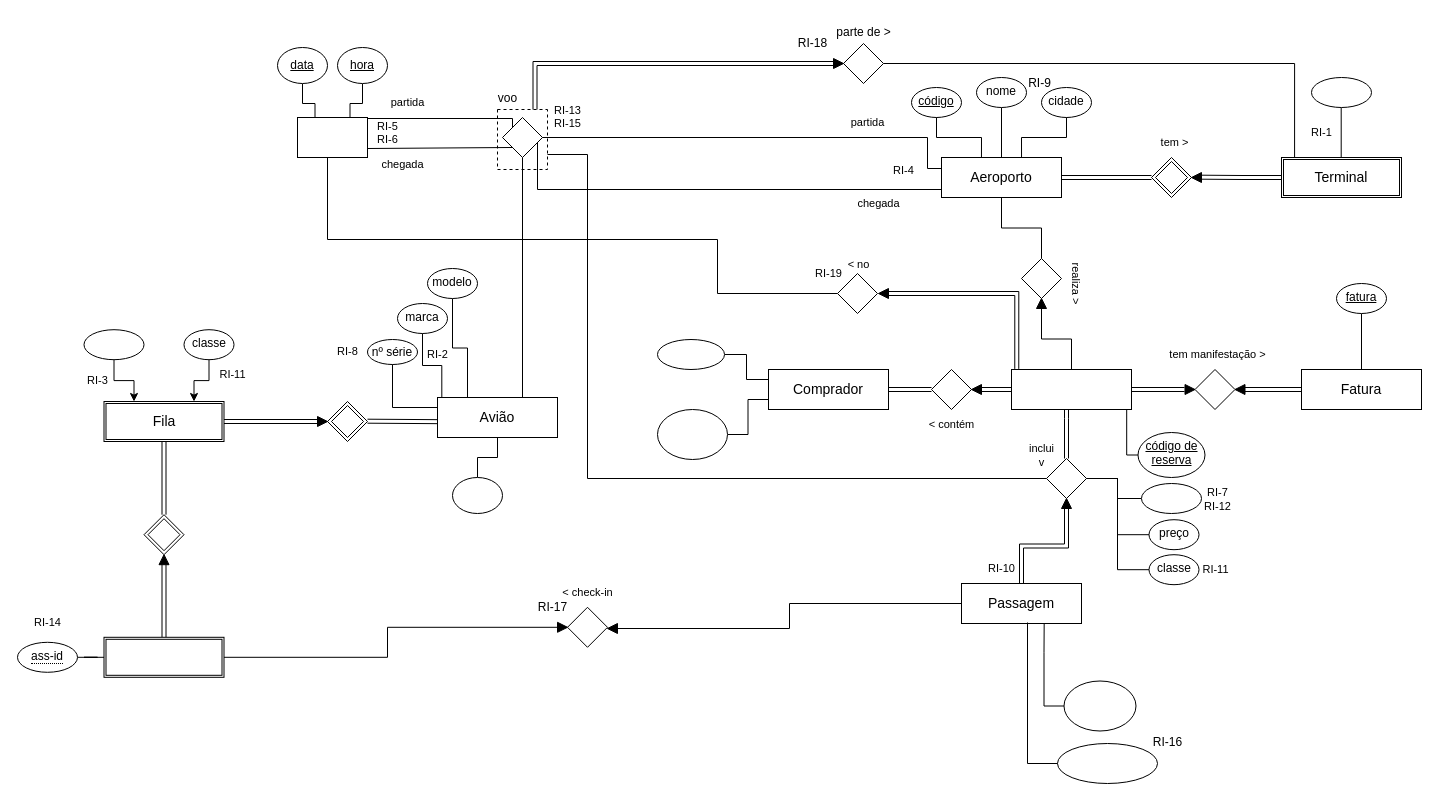
Some shapes in this 1439 by 801 pixel diagram are drawn without their labels. The shapes that lost their labels are listed below. From the top down, each one's centre as x and y in pixels, then its label:
point (1341, 92): ter-id
point (332, 137): Horário
point (113, 344): nº fila
point (690, 354): nif
point (1071, 389): Venda
point (692, 434): nome completo
point (477, 495): código de voo
point (1171, 498): bagagem
point (163, 656): Assento
point (1099, 705): pass-id
point (1107, 763): nome do passageiro
